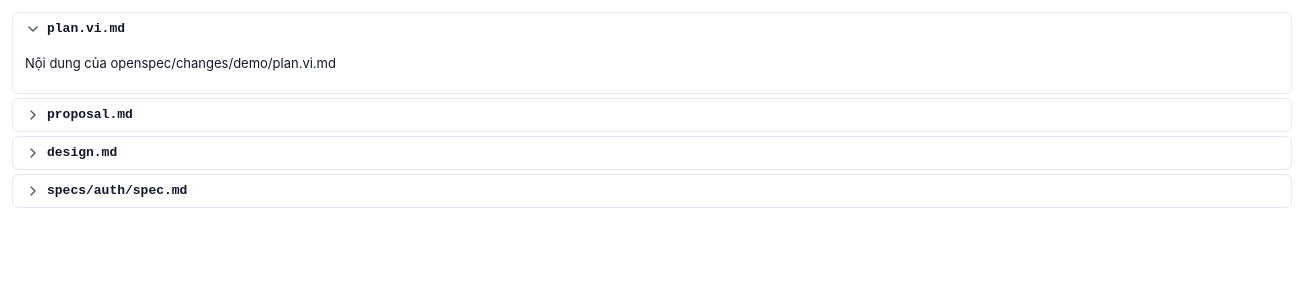
Test: <DocAccordion /> › UC-003/E1 a document that cannot be read shows its error in its own item only
Expected: the text "Nội dung của openspec/changes/demo/plan.vi.md" is shown, 25,55 -> 336,71
Click the button "proposal.md" at point(90, 114), box 13,99 -> 1291,131
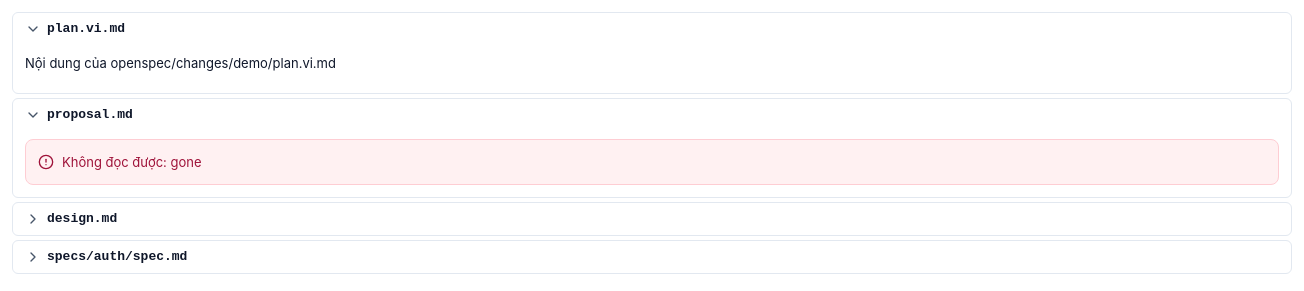
Expected: the text "Nội dung của openspec/changes/demo/plan.vi.md" is shown, 25,55 -> 336,71
Expected: the text "Không đọc được: gone" is shown once, 62,154 -> 202,170
